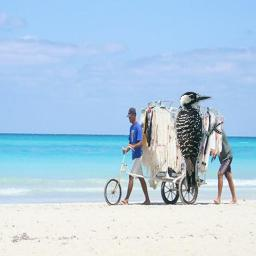Woodpecker: (173, 91, 225, 195)
